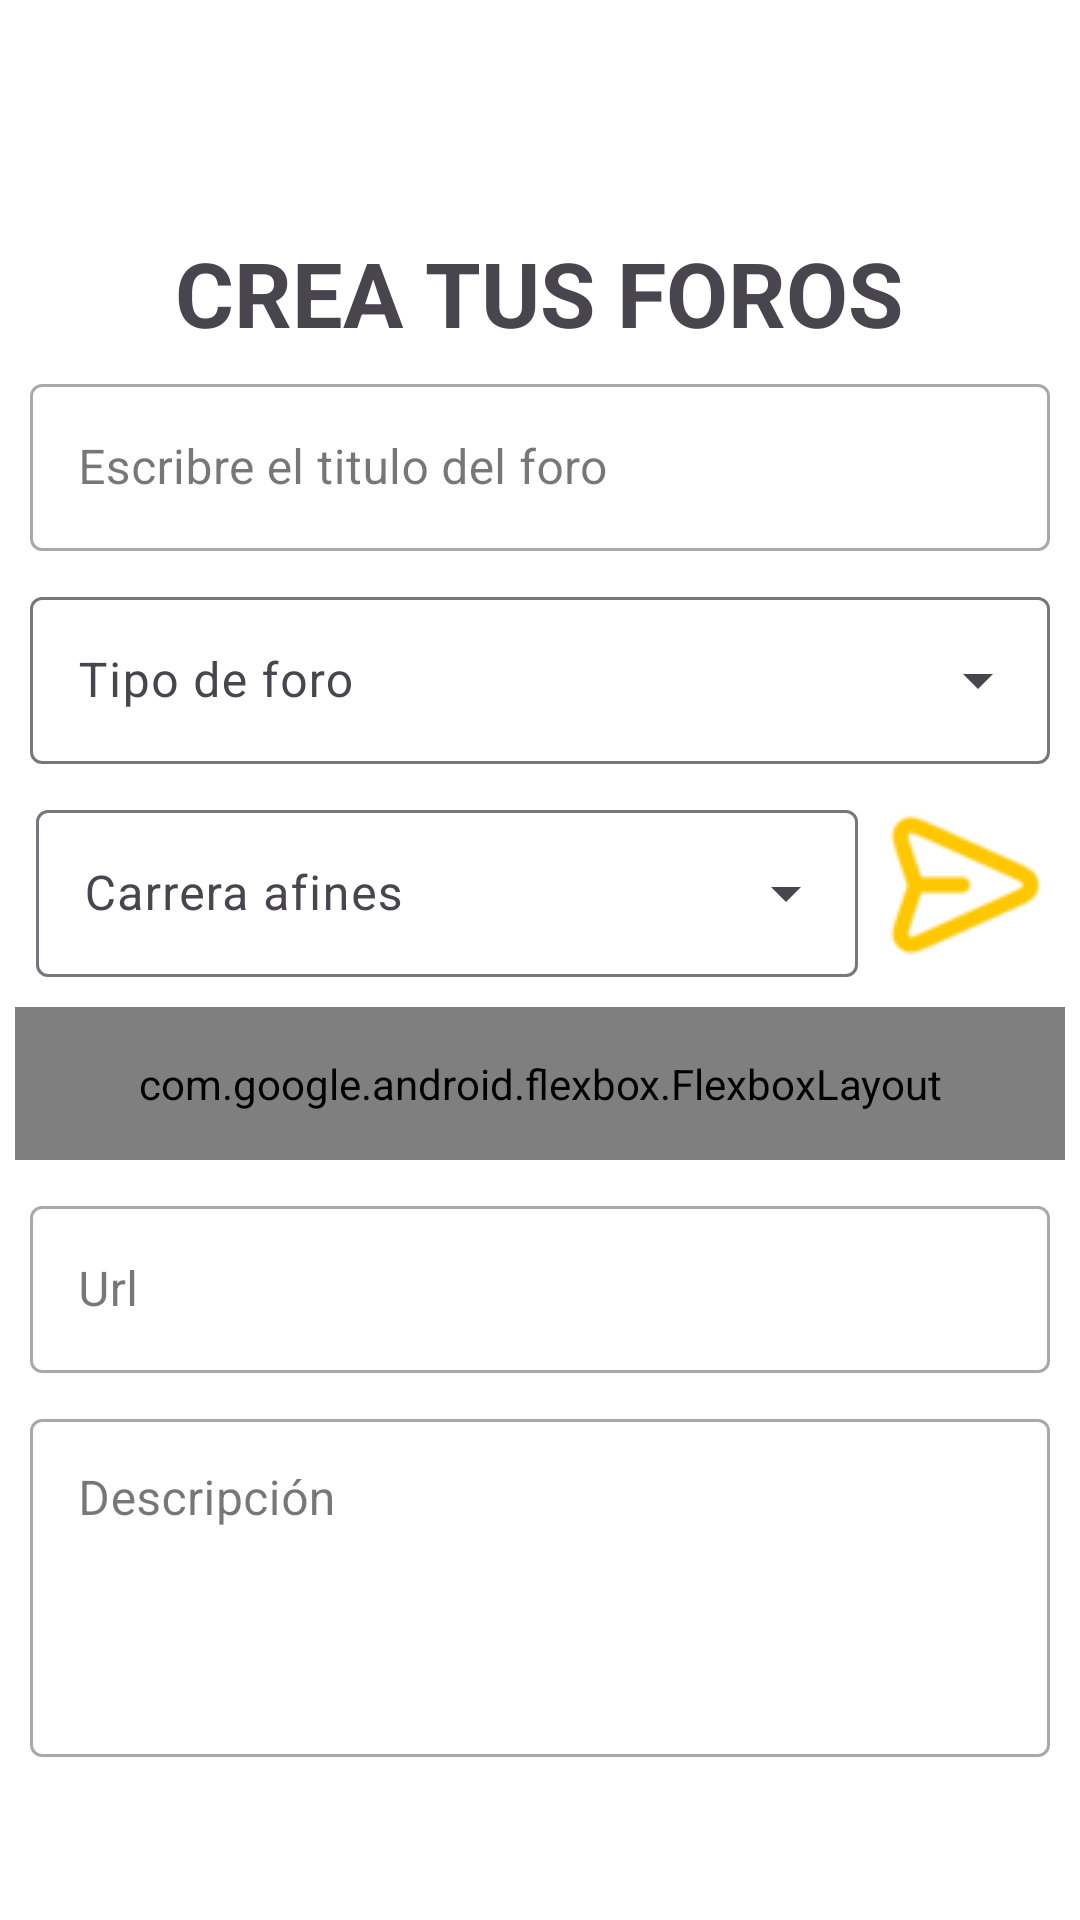

Point at icon controls on the screen. Image size 1080w x 1920h, points as (x=x, y=y).
send carrer: (x=965, y=885)
